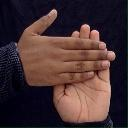hand: (16, 9, 116, 87), (52, 23, 111, 123)
